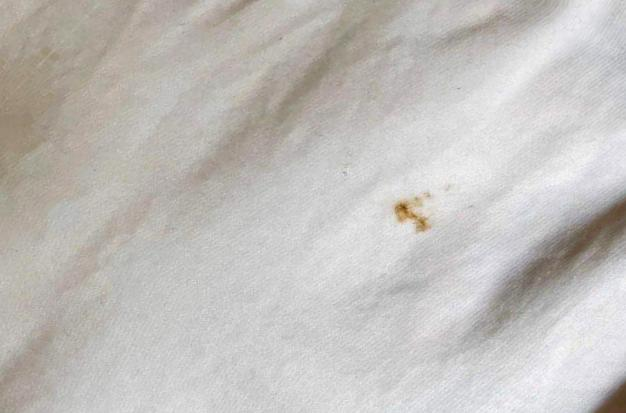stain: (389, 187, 449, 241)
